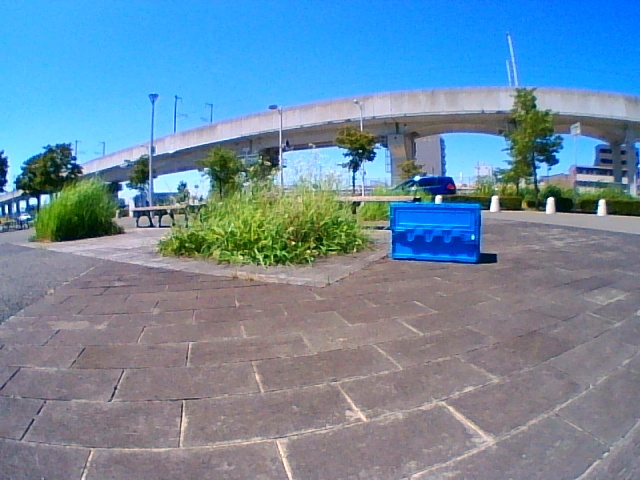blue_box: (392, 203, 479, 261)
